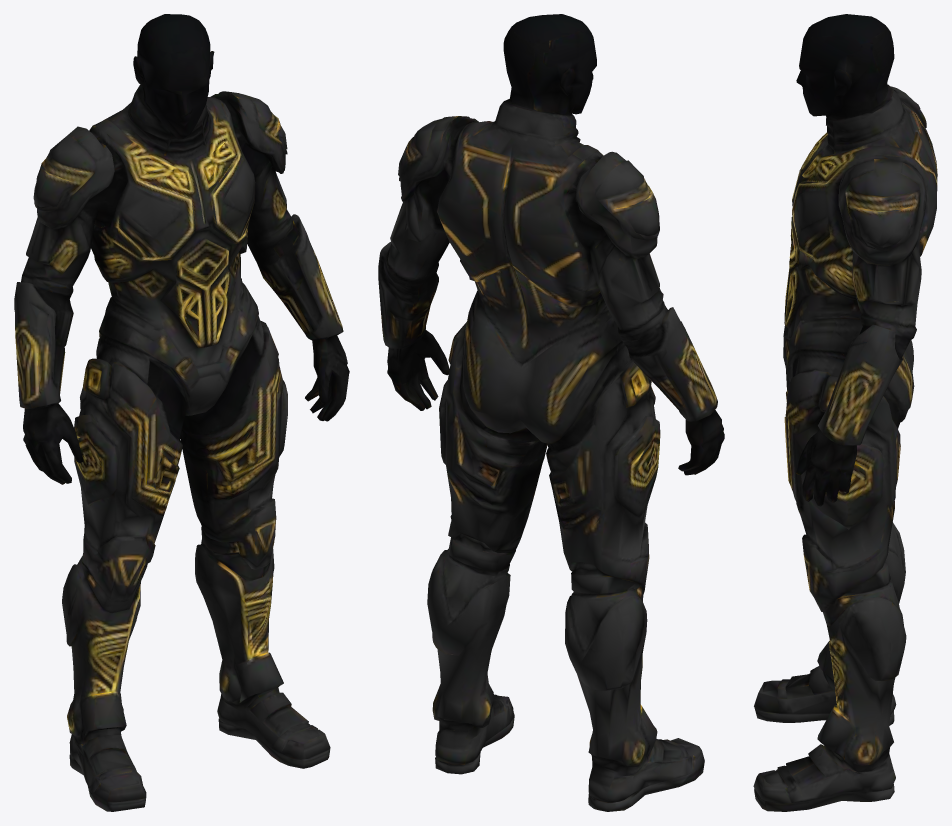
The model's file is ARMURE_1.glb.
3 renders of one model, left to right at view 1: azimuth 30°, elevation 25°; view 2: azimuth 150°, elevation 25°; view 3: azimuth 270°, elevation 25°, orthographic. The views are drawn at different scales.
Visible parts, largest first — view 1: node_0; view 2: node_0; view 3: node_0.
Part boxes in pixels (box(x1,y1,x2,y2)): node_0: box(14, 14, 349, 811); node_0: box(378, 14, 724, 811); node_0: box(753, 14, 937, 811).
Size of the model in its own units: 0.509 by 1.12 by 0.2542.
1 material, 1 textured.
